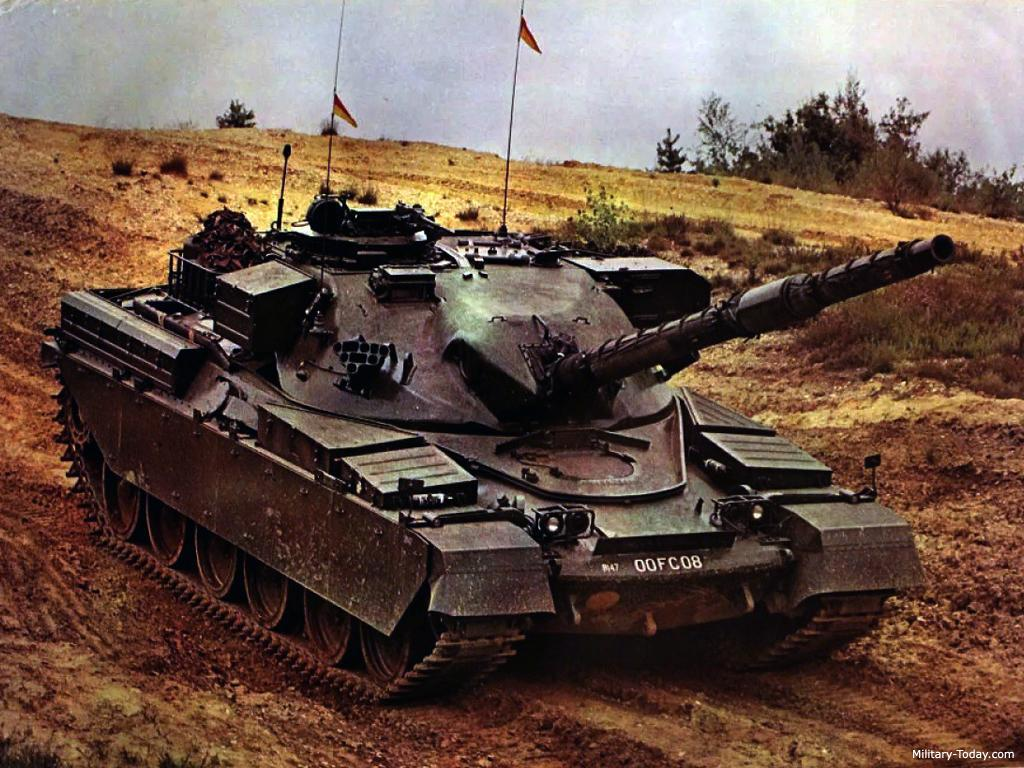tank: (30, 182, 966, 716)
